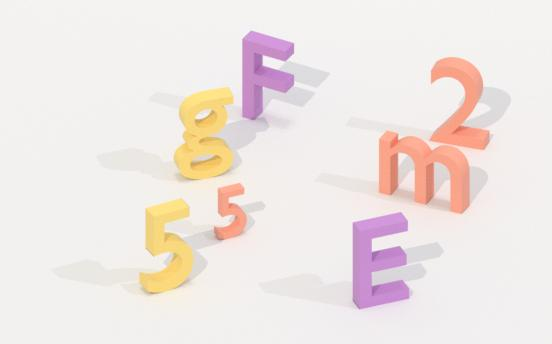2: (422, 55, 496, 153)
5: (136, 201, 198, 293), (210, 183, 252, 240)
E-hoa: (348, 212, 415, 309)
F: (235, 28, 301, 122)
g: (165, 90, 241, 186)
m: (374, 131, 475, 212)
